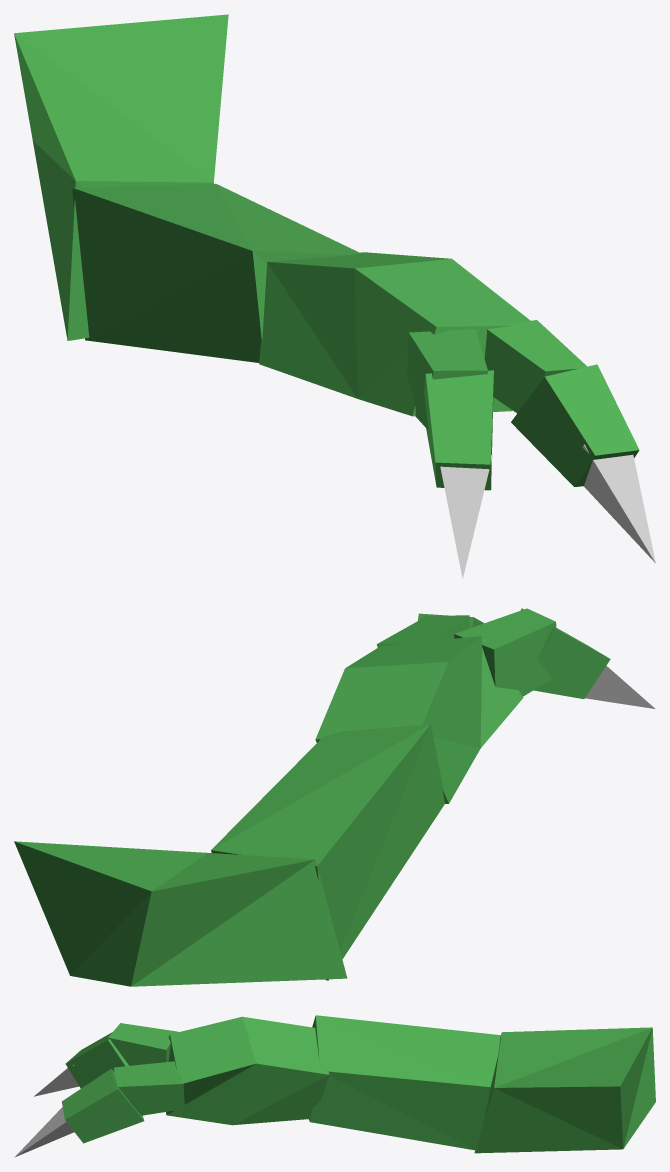
File: Arm.fbx
3 renders of one model, top to bottom at view 1: azimuth 30°, elevation 25°; view 2: azimuth 150°, elevation 25°; view 3: azimuth 270°, elevation 25°, orthographic. The views are drawn at different scales.
Parts seen in each view (by area): view 1: Bicep_R, Forearm_R, Hand_R, Finger2b_R, Finger1b_R, Finger2a_R, Finger1a_R, Finger2c_R, Finger1c_R; view 2: Bicep_R, Forearm_R, Hand_R, Finger1a_R, Finger1b_R, Finger2a_R, Finger1c_R; view 3: Forearm_R, Bicep_R, Hand_R, Finger2b_R, Finger2a_R, Finger1a_R, Finger1b_R, Finger2c_R, Finger1c_R.
Boxes of the visible parts, left/top/right/bottom form: Bicep_R: left=14, top=14, right=228, bottom=340; Forearm_R: left=72, top=183, right=359, bottom=362; Hand_R: left=259, top=252, right=530, bottom=416; Finger2b_R: left=511, top=364, right=639, bottom=486; Finger1b_R: left=424, top=370, right=493, bottom=490; Finger2a_R: left=484, top=320, right=586, bottom=413; Finger1a_R: left=407, top=329, right=487, bottom=430; Finger2c_R: left=582, top=444, right=655, bottom=563; Finger1c_R: left=440, top=455, right=492, bottom=578; Bicep_R: left=14, top=841, right=347, bottom=986; Forearm_R: left=211, top=724, right=444, bottom=980; Hand_R: left=315, top=636, right=523, bottom=803; Finger1a_R: left=454, top=608, right=556, bottom=696; Finger1b_R: left=520, top=608, right=610, bottom=699; Finger2a_R: left=377, top=615, right=469, bottom=647; Finger1c_R: left=585, top=666, right=655, bottom=708; Forearm_R: left=309, top=1015, right=500, bottom=1150; Bicep_R: left=474, top=1027, right=655, bottom=1153; Hand_R: left=166, top=1016, right=329, bottom=1125; Finger2b_R: left=61, top=1068, right=144, bottom=1143; Finger2a_R: left=114, top=1061, right=184, bottom=1115; Finger1a_R: left=108, top=1023, right=177, bottom=1065; Finger1b_R: left=65, top=1032, right=128, bottom=1088; Finger2c_R: left=14, top=1107, right=74, bottom=1157; Finger1c_R: left=34, top=1065, right=79, bottom=1096.
Bounding box in the file's own units: 6.88 × 4.93 × 23.28.
